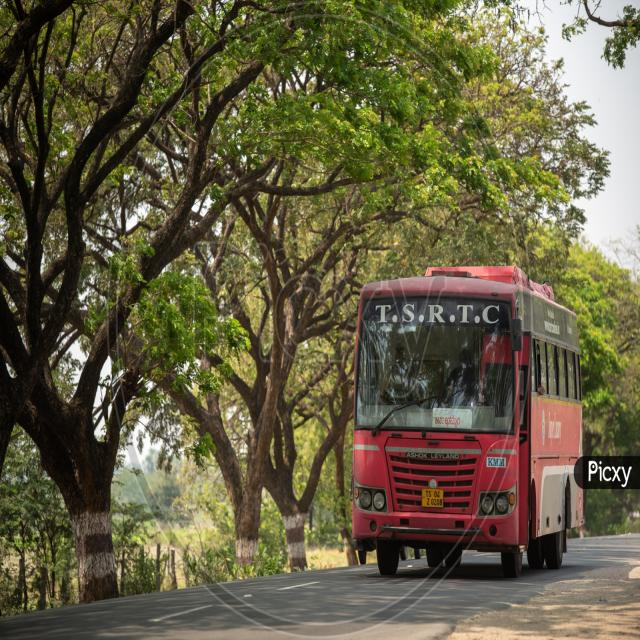BUS: (333, 250, 597, 550)
